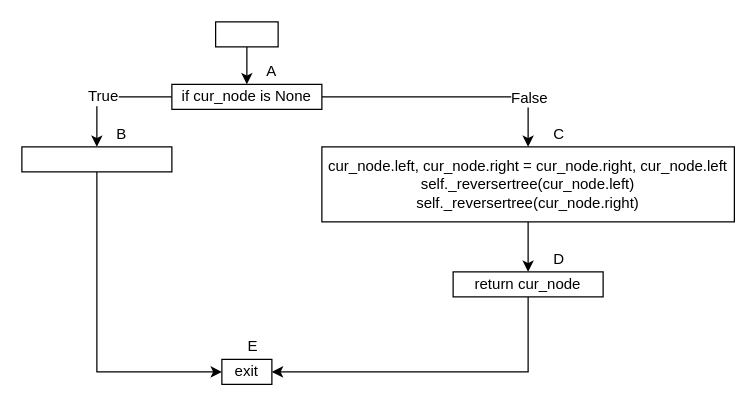
Some shapes in this 756 by 406 pixel diagram are drawn without their labels. Here are the shapes that lost their labels. From the top down, the centre of each, then its label:
[246,34]: Start
[96,159]: return None
